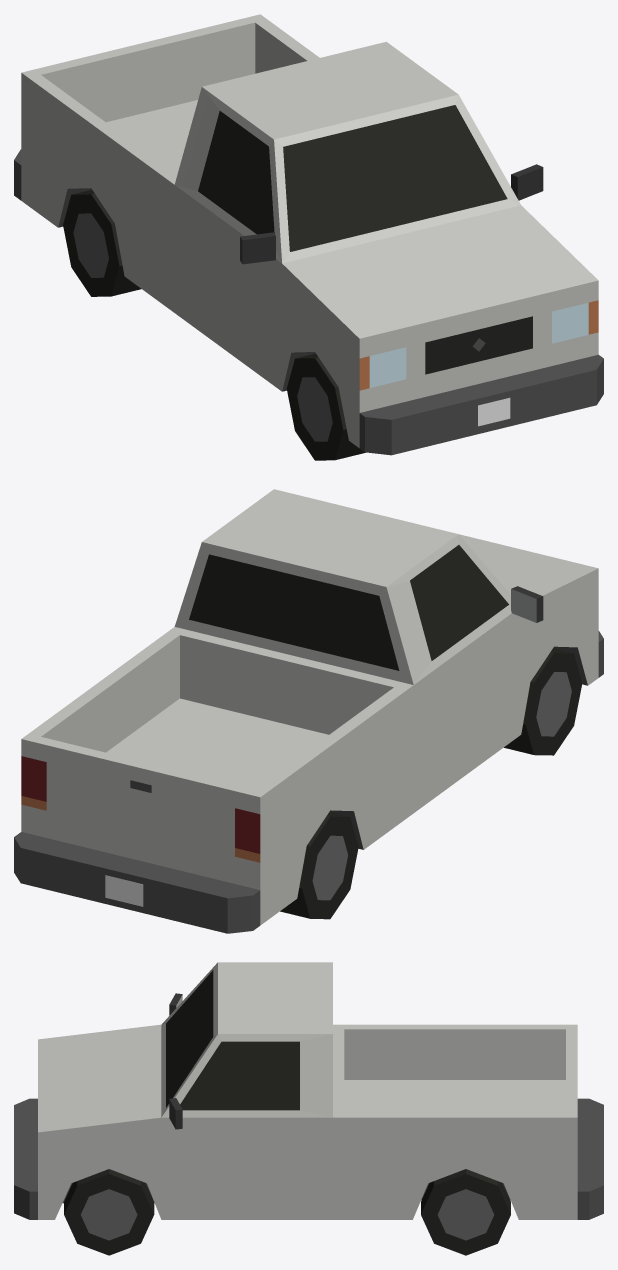
Rendered from Veh_Pickup_01_White.glb.
The picture shows the model from 3 angles, top to bottom: view 1: azimuth 30°, elevation 25°; view 2: azimuth 150°, elevation 25°; view 3: azimuth 270°, elevation 25°; orthographic projection. The views are drawn at different scales.
Visible parts, largest first — view 1: Pickup_01_Default, Wheel_FR, Wheel_RR; view 2: Pickup_01_Default, Wheel_RR, Wheel_FR; view 3: Pickup_01_Default, Wheel_FL, Wheel_RL.
Part boxes in pixels (x1,y1,x2,y2): Pickup_01_Default: (14, 14, 603, 455); Wheel_FR: (286, 353, 365, 460); Wheel_RR: (63, 190, 141, 296); Pickup_01_Default: (14, 489, 603, 933); Wheel_RR: (280, 812, 358, 919); Wheel_FR: (504, 648, 582, 755); Pickup_01_Default: (14, 962, 603, 1219); Wheel_FL: (64, 1169, 154, 1255); Wheel_RL: (421, 1169, 510, 1255).
Bounding box in the file's own units: 1.34 × 1.12 × 2.85.
Materials: 1 (1 with a texture image).
